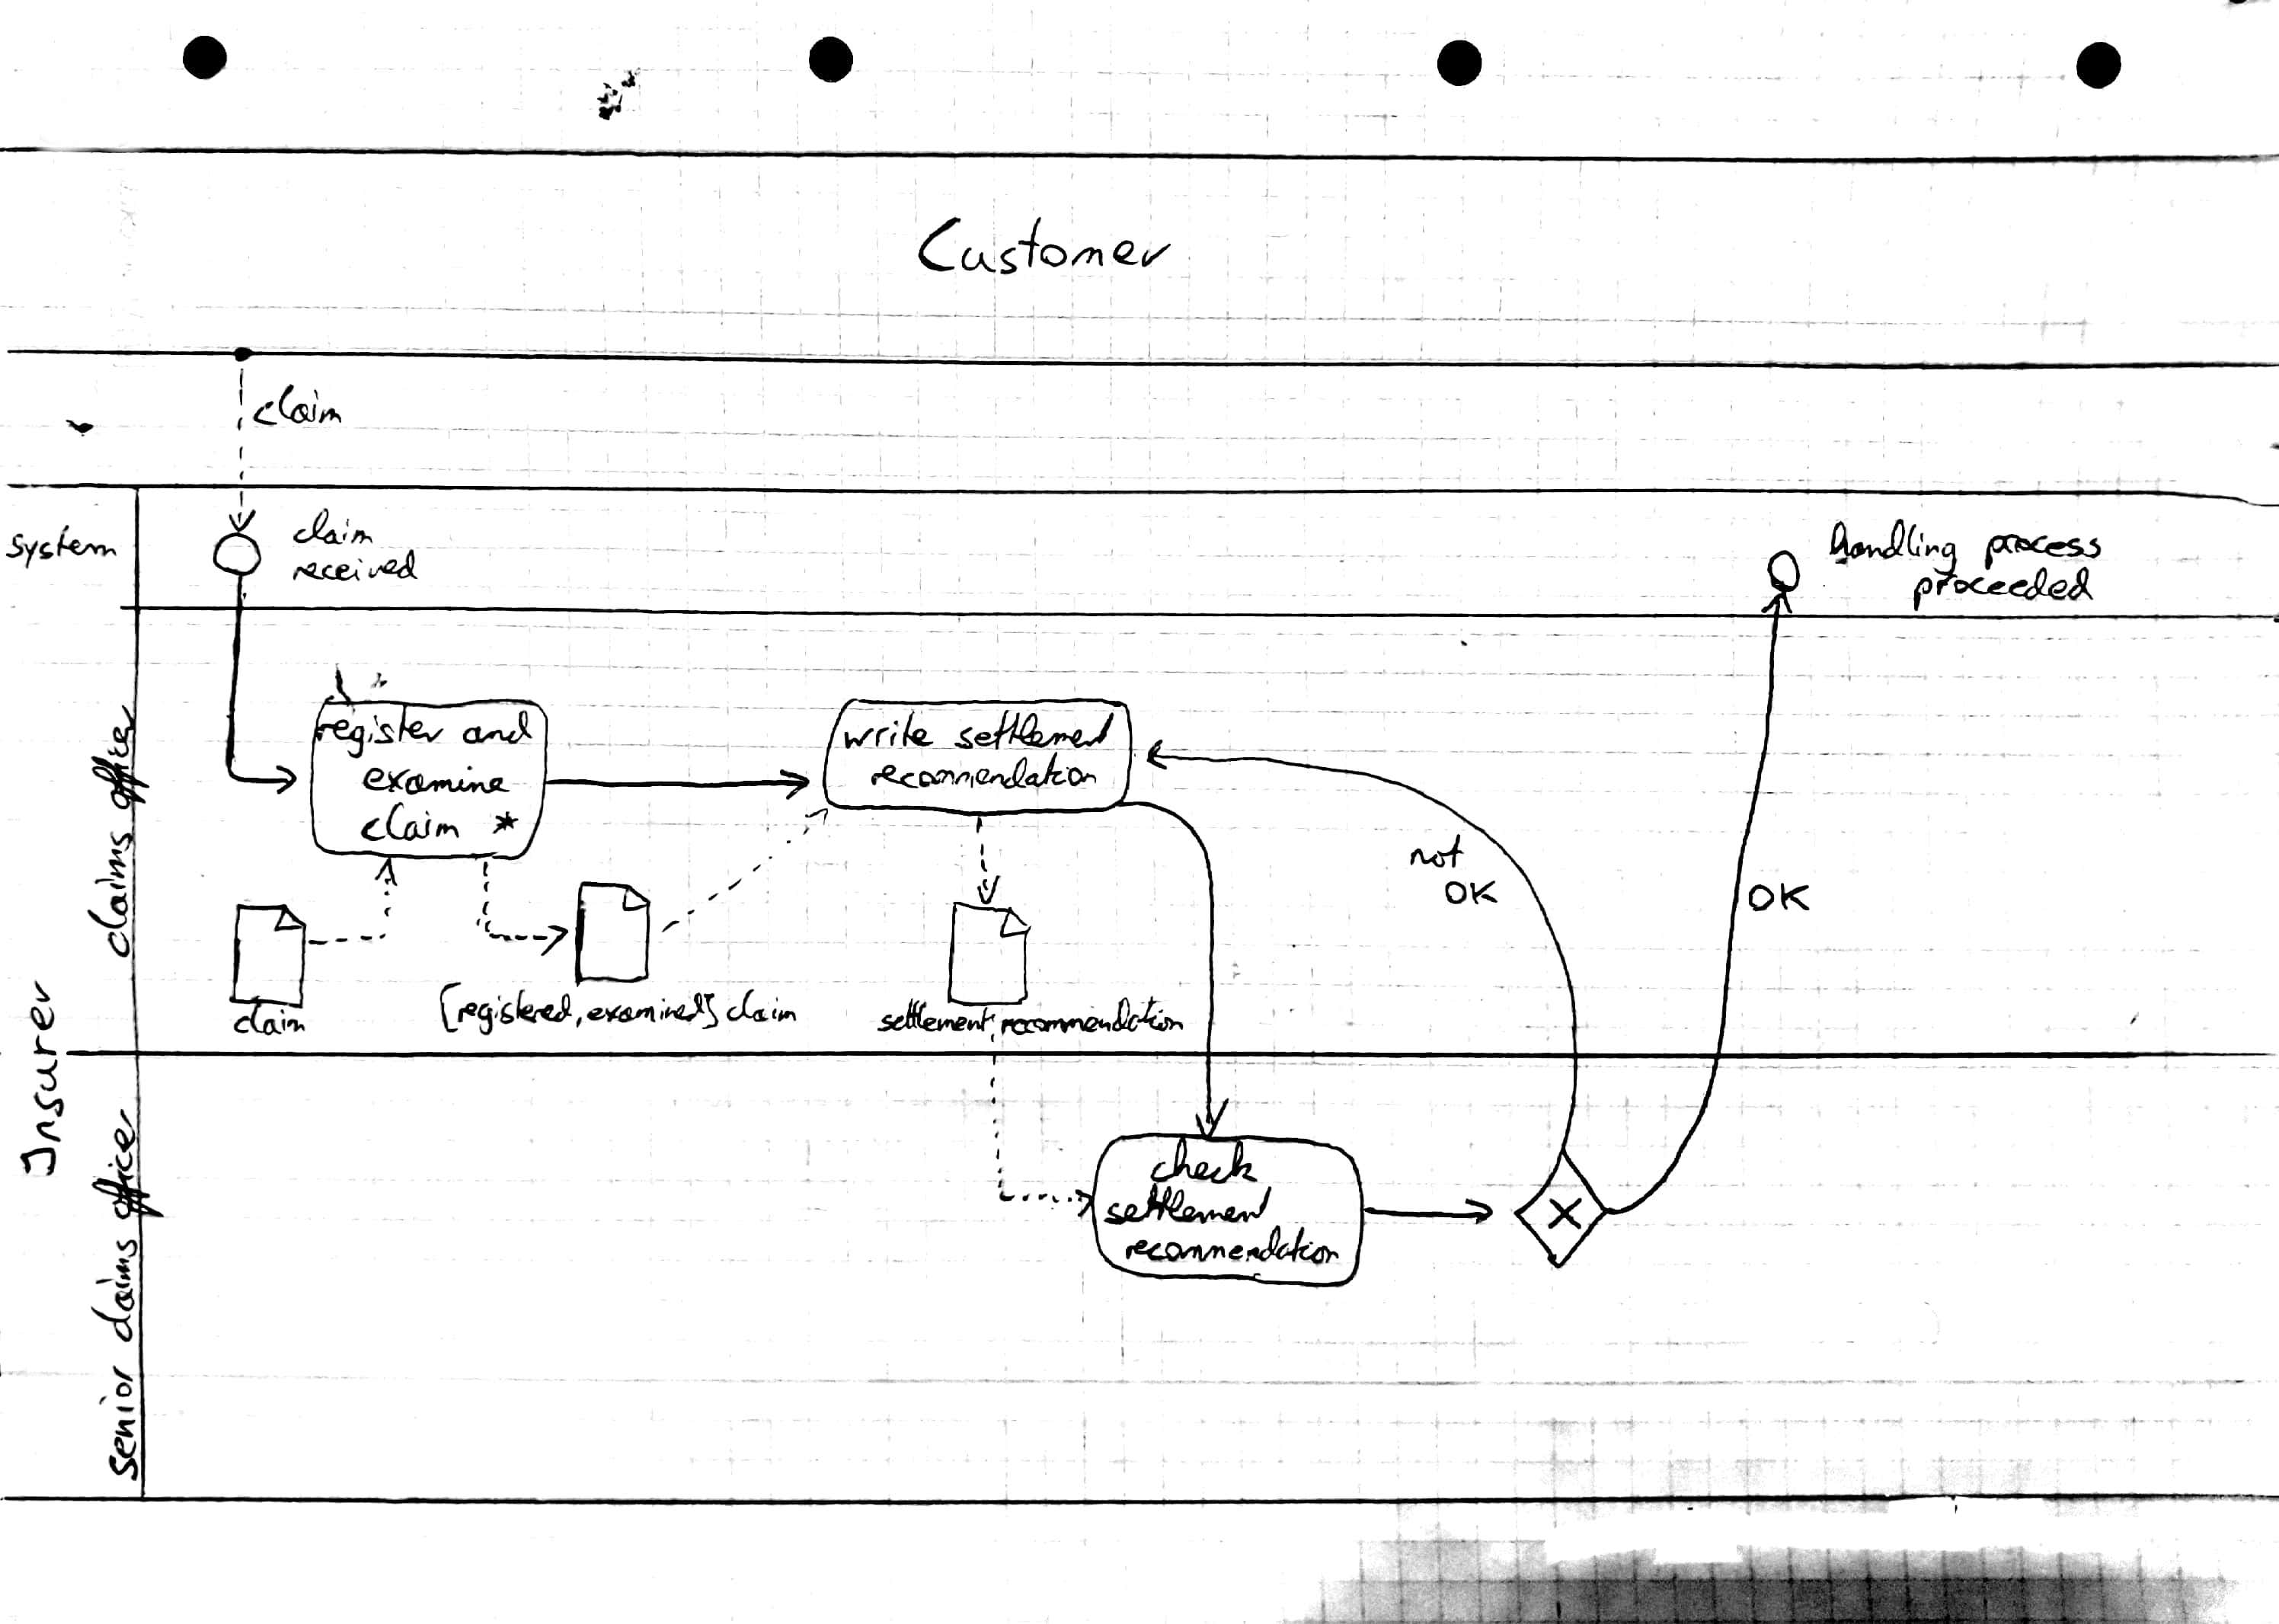*: (488, 807, 522, 840)
Customer: (908, 209, 1179, 281)
Insurer: (12, 972, 72, 1186)
OK: (1743, 877, 1817, 917), (1437, 875, 1504, 910)
System: (0, 520, 125, 575)
[registered,: (432, 975, 589, 1040)
and: (457, 705, 538, 750)
check: (1142, 1130, 1265, 1188)
claim: (246, 378, 350, 434), (355, 796, 466, 847), (286, 503, 380, 552), (227, 995, 311, 1040), (720, 984, 803, 1030)
claims: (81, 824, 142, 965), (84, 1232, 148, 1350)
examine: (355, 761, 517, 800)
examined]: (583, 986, 722, 1035)
handling: (1822, 513, 1963, 584)
not: (1404, 828, 1469, 874)
officer: (86, 1104, 170, 1227), (86, 700, 156, 817)
proceeded: (1905, 561, 2100, 617)
process: (1979, 527, 2109, 576)
received: (285, 543, 425, 589)
recommendation: (865, 749, 1103, 796), (1118, 1220, 1346, 1269), (996, 991, 1190, 1042)
register: (309, 696, 450, 765)
senior: (91, 1360, 148, 1489)
settlement: (1096, 1176, 1279, 1230), (947, 705, 1121, 756), (870, 993, 998, 1037)
write: (836, 705, 940, 754)
